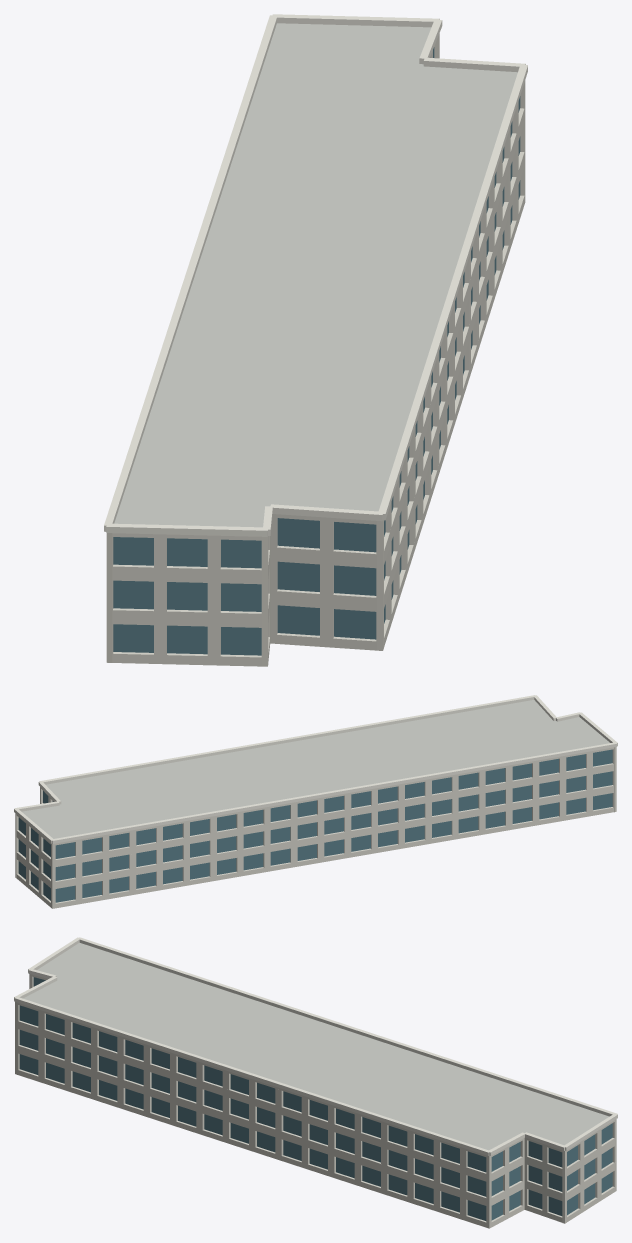
File: sb_1556523918.far.glb
The picture shows the model from 3 angles, top to bottom: view 1: azimuth 30°, elevation 25°; view 2: azimuth 150°, elevation 25°; view 3: azimuth 270°, elevation 25°; orthographic projection. The views are drawn at different scales.
Visible parts, largest first — view 1: roof, wall, glass, trim; view 2: roof, wall, glass, trim; view 3: roof, wall, glass, trim.
Boxes of the visible parts, left/top/right/bottom form: roof: left=114, top=23, right=517, bottom=527; wall: left=106, top=33, right=525, bottom=666; glass: left=113, top=47, right=520, bottom=655; trim: left=104, top=14, right=527, bottom=536; roof: left=22, top=700, right=609, bottom=838; wall: left=15, top=747, right=616, bottom=908; glass: left=18, top=749, right=612, bottom=902; trim: left=14, top=695, right=617, bottom=843; roof: left=23, top=942, right=609, bottom=1150; wall: left=15, top=974, right=616, bottom=1228; glass: left=19, top=977, right=612, bottom=1220; trim: left=14, top=937, right=617, bottom=1155.
Size of the model in its own units: 58.74 by 9.74 by 69.62.
